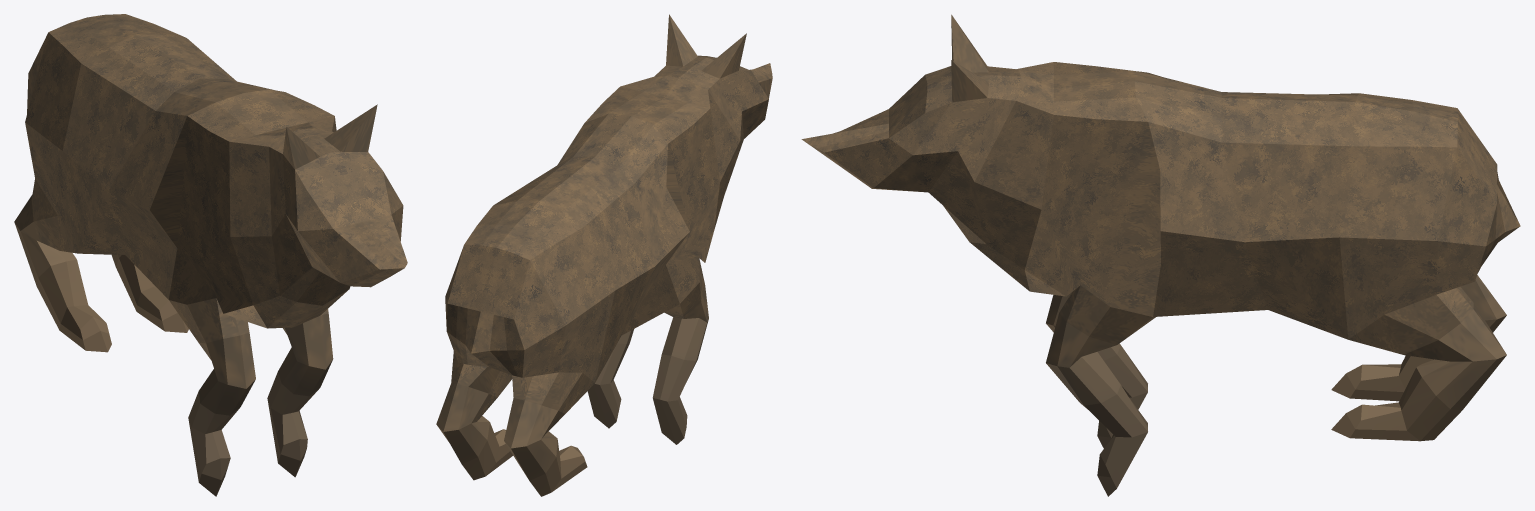
Rendered from piesblend_000030.obj.
3 renders of one model, left to right at view 1: azimuth 30°, elevation 25°; view 2: azimuth 150°, elevation 25°; view 3: azimuth 270°, elevation 25°, orthographic. The views are drawn at different scales.
Parts seen in each view (by area): view 1: Cube; view 2: Cube; view 3: Cube.
Boxes of the visible parts, box(x1,y1,x2,y2) form: Cube: box(14, 14, 407, 496); Cube: box(436, 14, 772, 496); Cube: box(801, 14, 1520, 496).
Bounding box in the file's own units: 2.56 × 6.48 × 9.59.
1 material, 1 textured.
